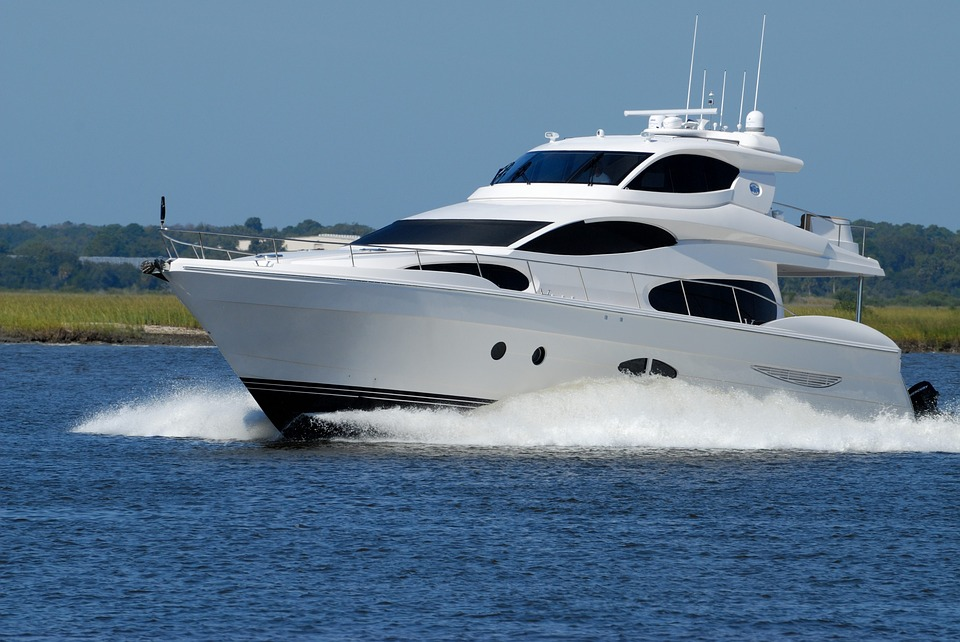yacht: (169, 86, 918, 451)
